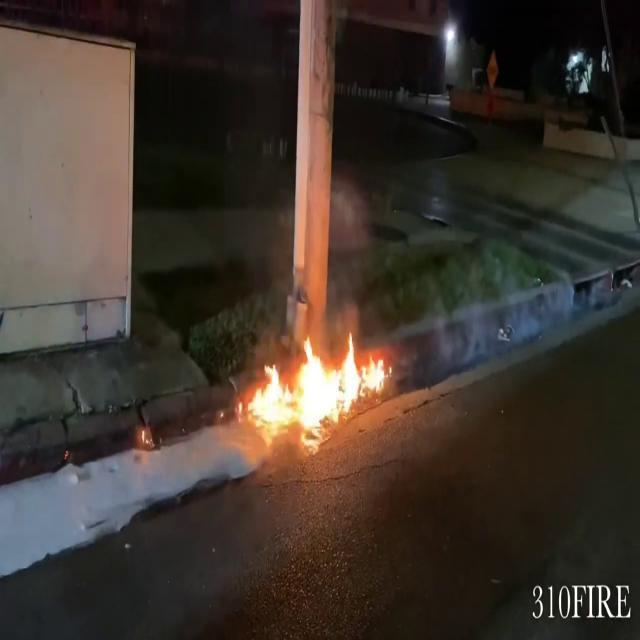Fire: (242, 318, 392, 440)
